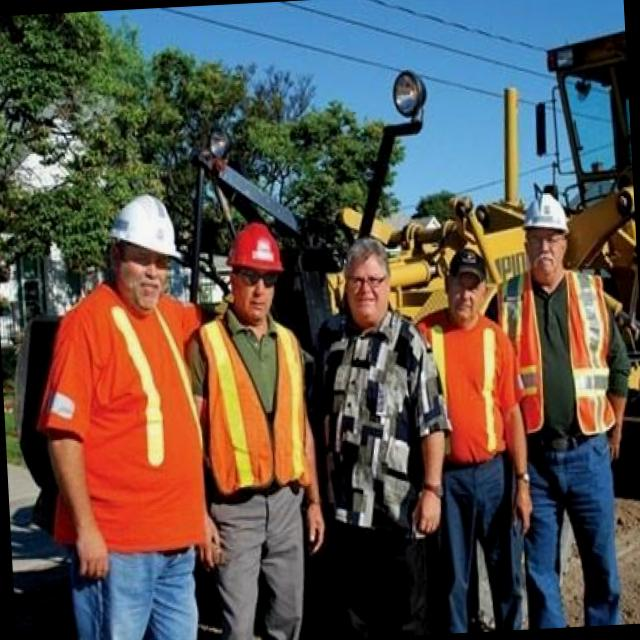helmet: (107, 191, 180, 264), (222, 220, 288, 280), (516, 190, 574, 248)
no-helmet: (340, 232, 397, 302), (440, 237, 492, 299)
no-vest: (324, 303, 434, 515)
vest: (44, 294, 195, 550), (514, 266, 630, 449), (202, 308, 308, 489), (434, 306, 516, 458)
